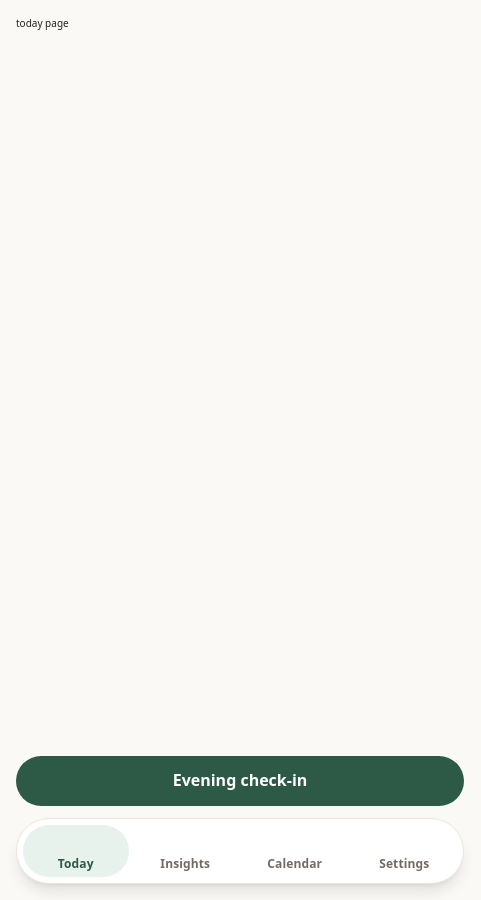
Test: AppLayout › navigates when a tab is tapped
Step 1. Click the button "Insights" → click(185, 851), box [132, 825, 238, 877]
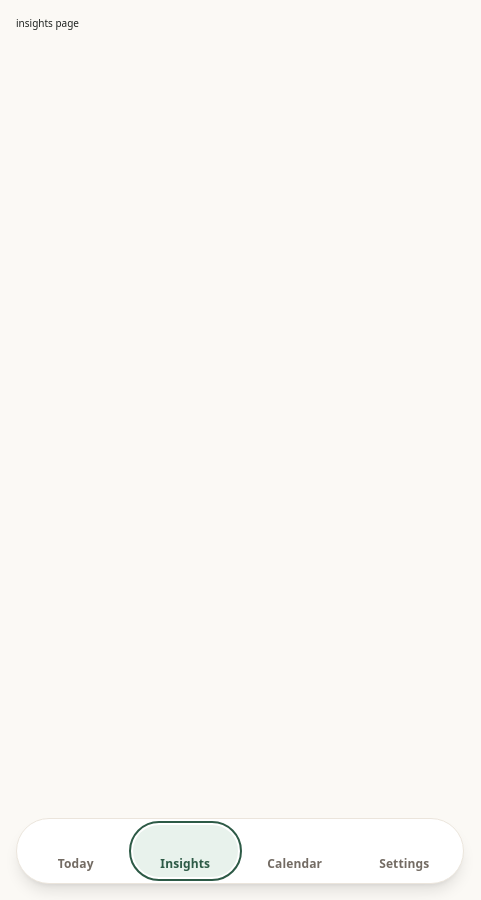
Check: the text "insights page" is shown, box [16, 16, 79, 30]
